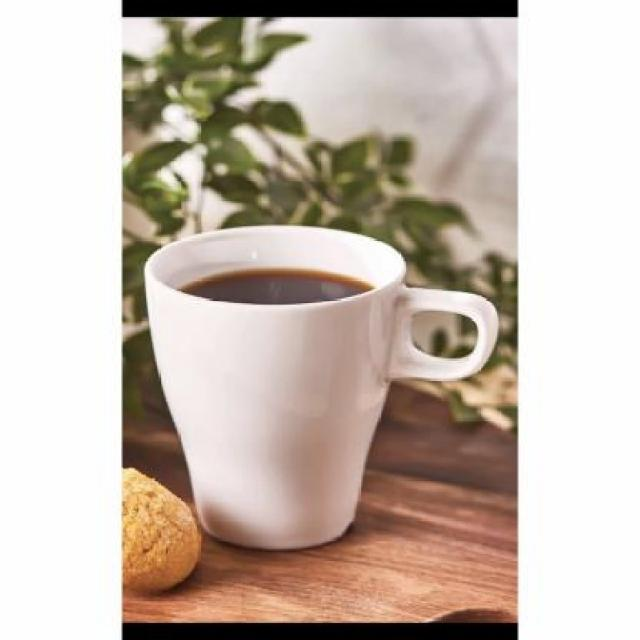taza: (142, 222, 500, 552)
